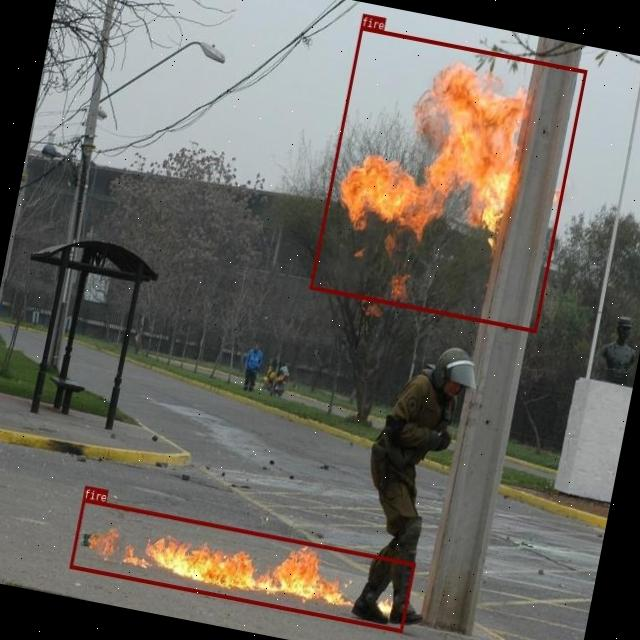fire: (310, 25, 587, 332), (70, 498, 416, 632)
